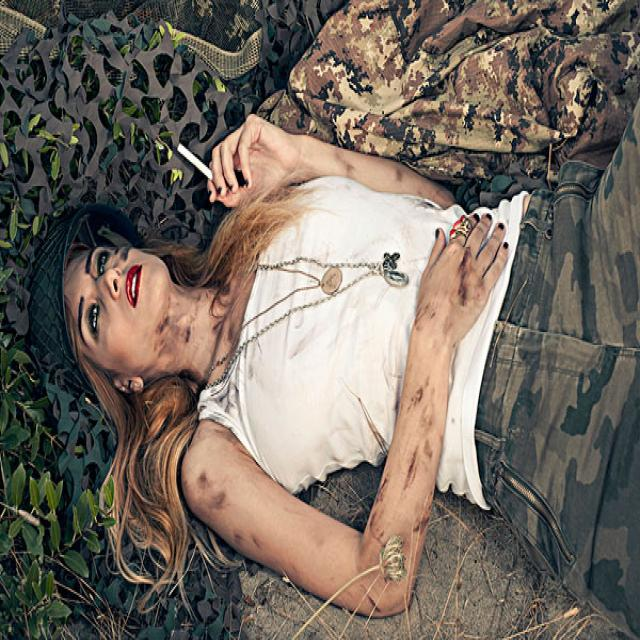smoking: (177, 142, 214, 186)
